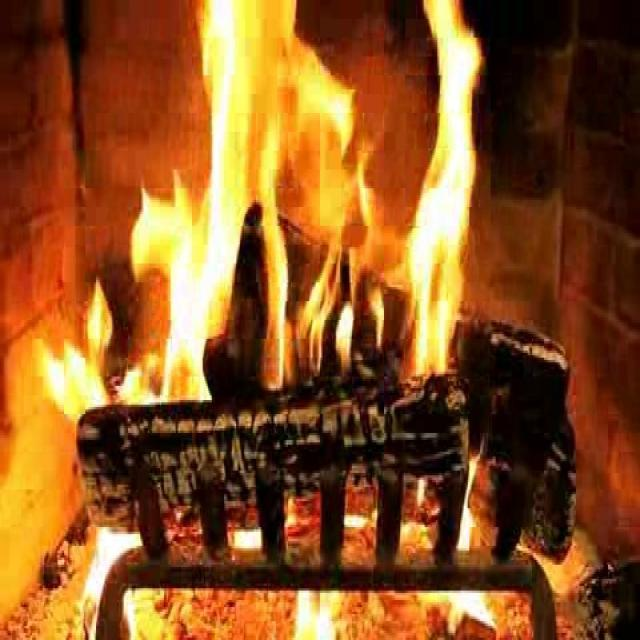Fire: (121, 24, 468, 387)
